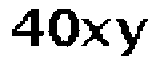0: (47, 6, 80, 49)
4: (3, 3, 46, 51)
x: (81, 14, 115, 51)
y: (116, 15, 153, 60)
